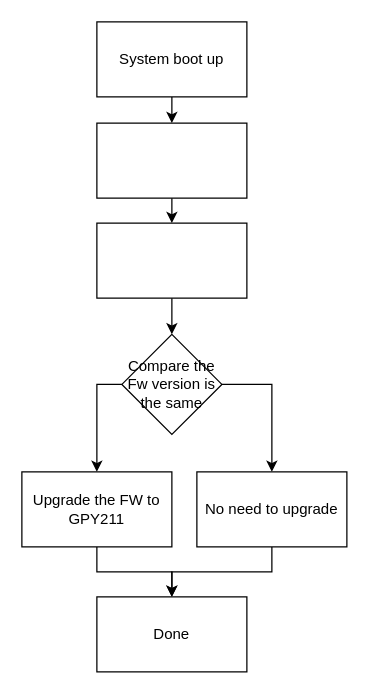
This 369x694 diagram has some shape labels left out. Here are the shapes that lost their labels. From the top down, the box of each, then its label:
(96, 122, 247, 198): Get the FW version of bin file on image
(96, 222, 247, 298): Get the FW version of GPY211
